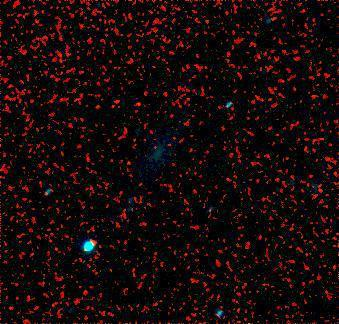star: (125, 89, 155, 119)
